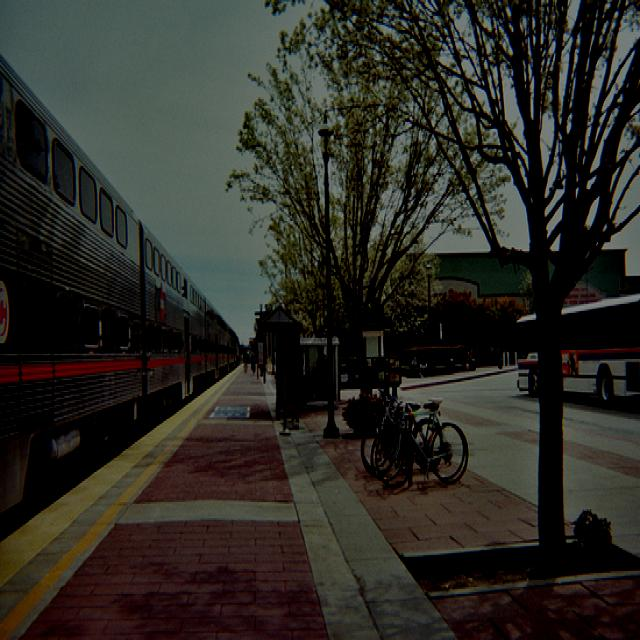Vehicle: (558, 291, 640, 415)
